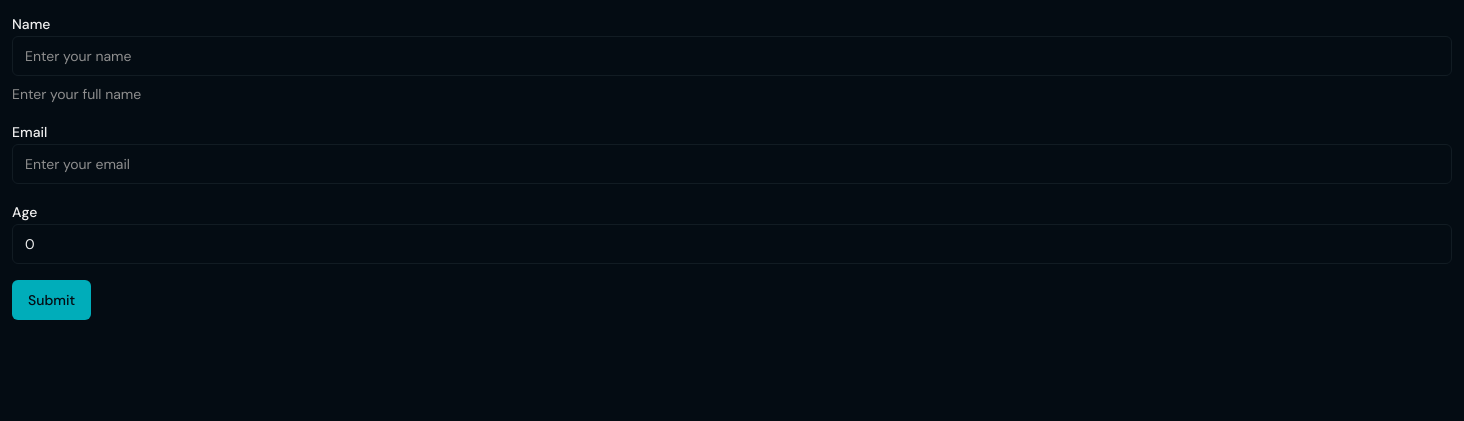
Test case: Form Component › clears validation errors when user starts typing
// Submit with empty form to trigger errors
Click the button "Submit" at (52, 300), box [12,280,91,320]
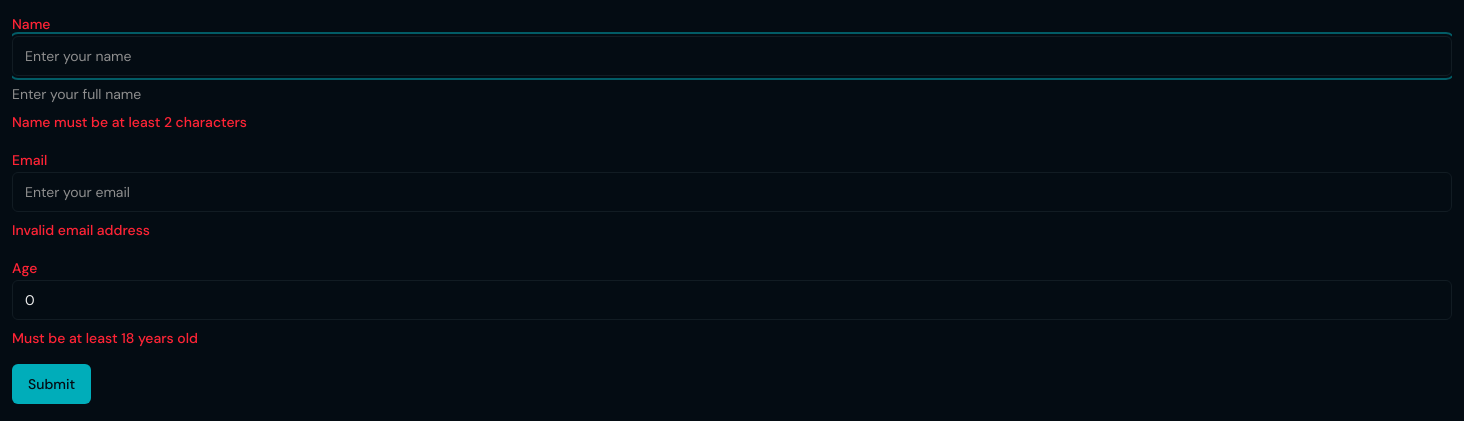
Check: the text "Name must be at least 2 characters" is shown, box [12,113,247,131]
// Start typing in name field
Type "Jo" into the field labelled "Name" at (732, 56), box [12,36,1452,76]
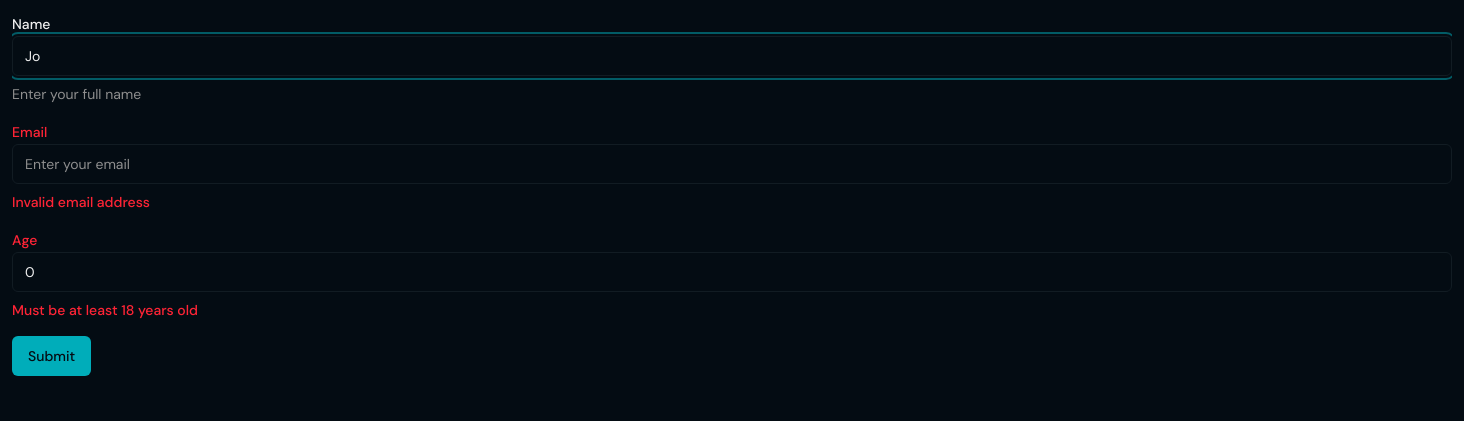
Check: the text "Name must be at least 2 characters" is gone
